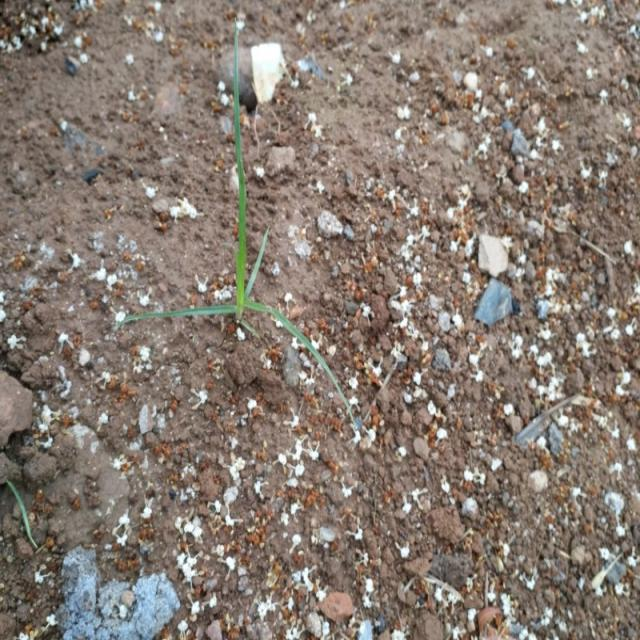sedge: (118, 42, 323, 440)
